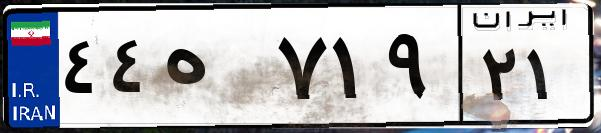1: (330, 28, 385, 110), (525, 38, 570, 115)
2: (475, 38, 525, 113)
4: (57, 26, 110, 100), (110, 28, 158, 98)
7: (270, 28, 330, 110)
9: (385, 28, 445, 110)
ه: (158, 20, 270, 120)
